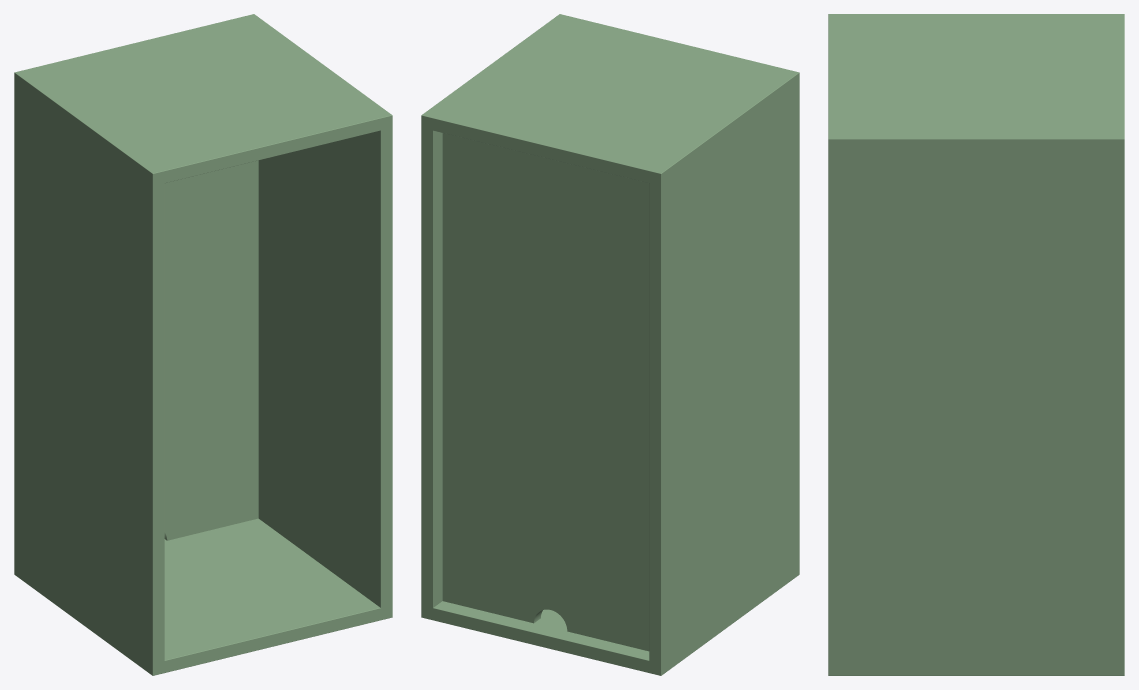
The model's file is MOD-1X2-A-B-AP-SA.glb.
The picture shows the model from 3 angles, left to right: view 1: azimuth 30°, elevation 25°; view 2: azimuth 150°, elevation 25°; view 3: azimuth 270°, elevation 25°; orthographic projection. The views are drawn at different scales.
Bounding box in the file's own units: 360 × 720 × 360.
